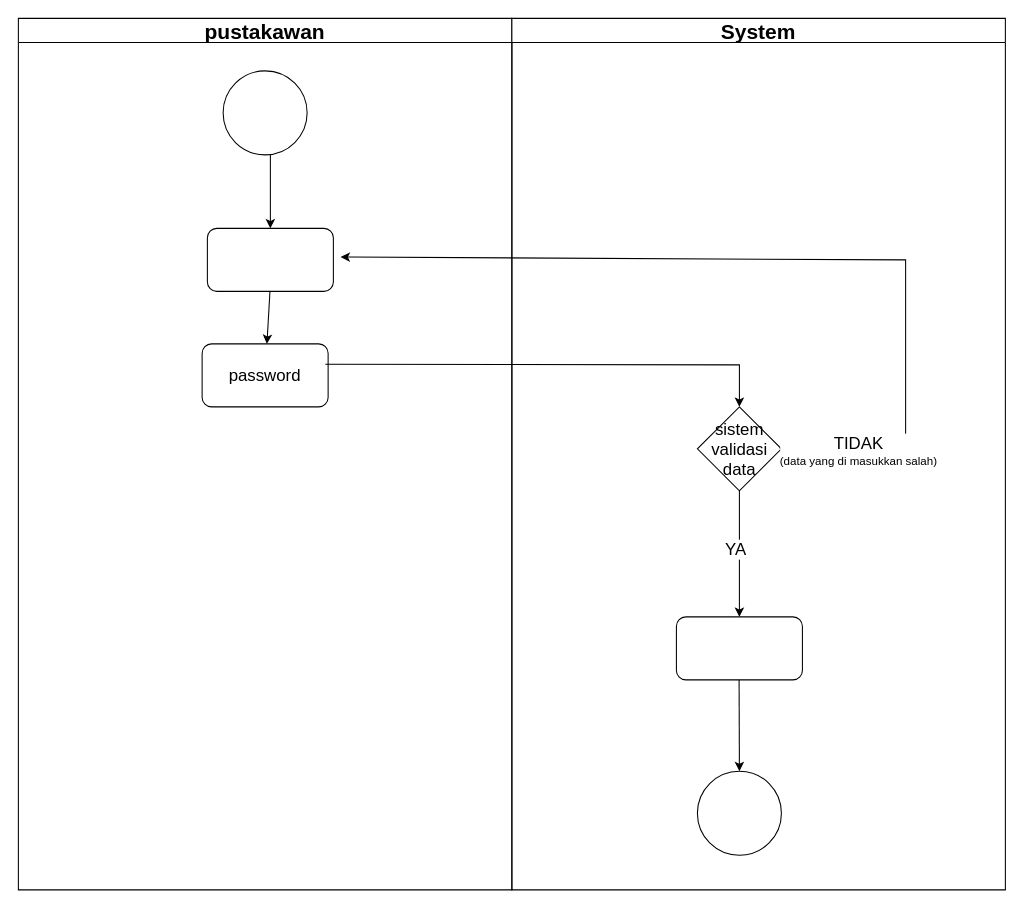
Image size: 1024x908. Some labels were removed from this diagram. The shapes that lost their labels are listed below. From the top down, each one's centre as x and y in pixels, then its label:
pixel 269 259: email
pixel 738 648: menampilkan beranda
